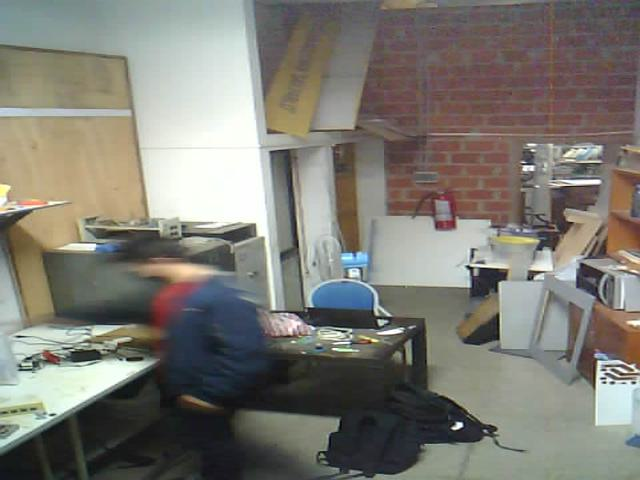person: (96, 211, 286, 480)
